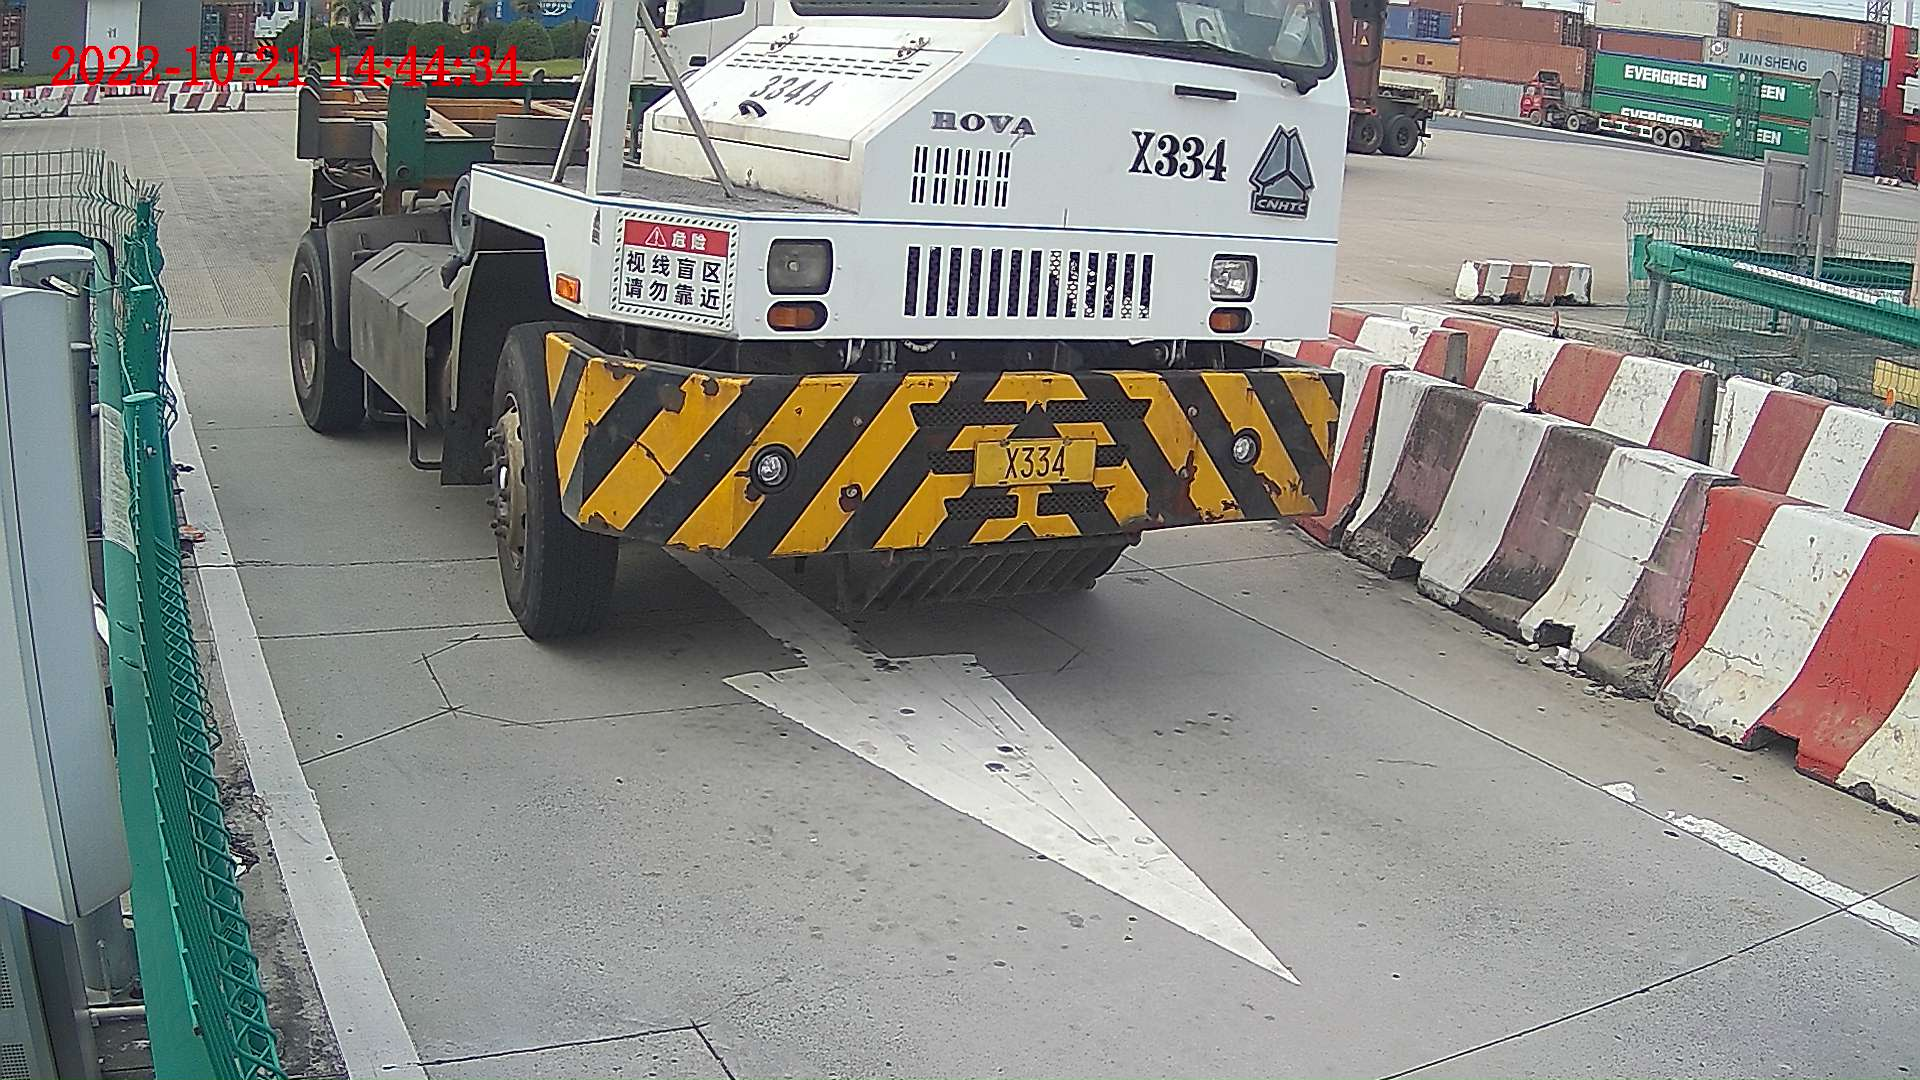head: (495, 1, 1354, 632)
plate: (968, 443, 1097, 482)
